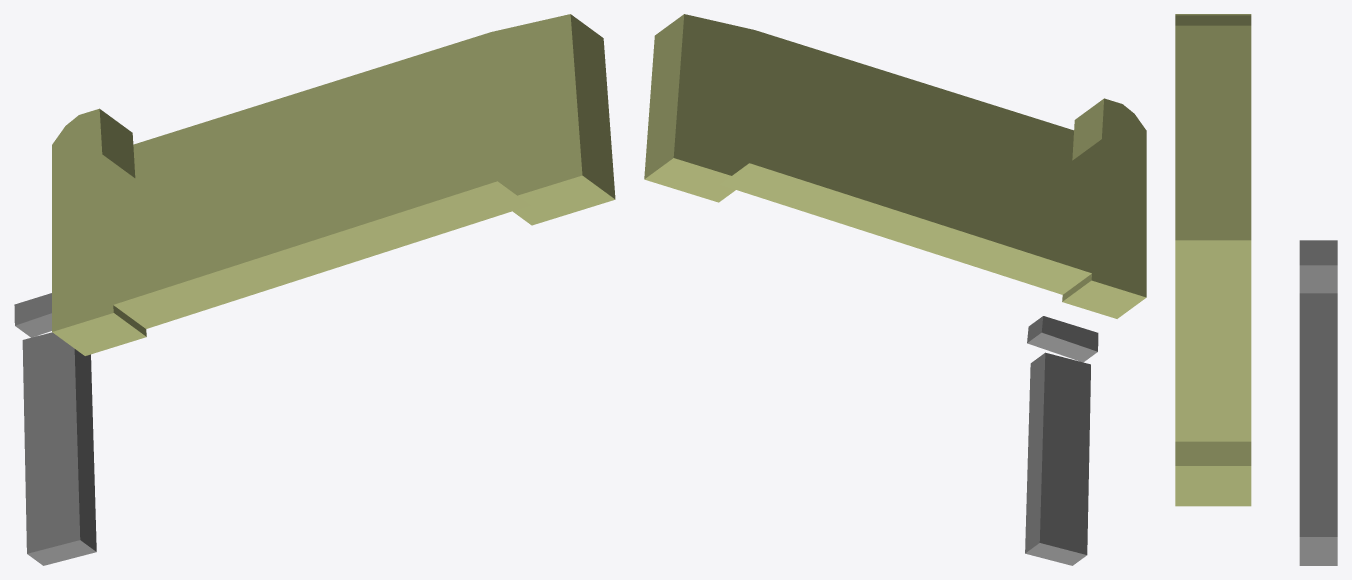
3 views of the same model, side by side, from view 1: azimuth 30°, elevation 25°; view 2: azimuth 150°, elevation 25°; view 3: azimuth 270°, elevation 25° (orthographic). The views are drawn at different scales.
Parts seen in each view (by area): view 1: 0_3_2_3_1_1_2; view 2: 0_3_2_3_1_1_2; view 3: 0_3_2_3_1_1_2.
Boxes of the visible parts, left/top/right/bottom form: 0_3_2_3_1_1_2: left=14, top=14, right=615, bottom=565; 0_3_2_3_1_1_2: left=644, top=14, right=1146, bottom=565; 0_3_2_3_1_1_2: left=1175, top=14, right=1337, bottom=565.
Size of the model in its own units: 55.62 by 46.49 by 12.82.
